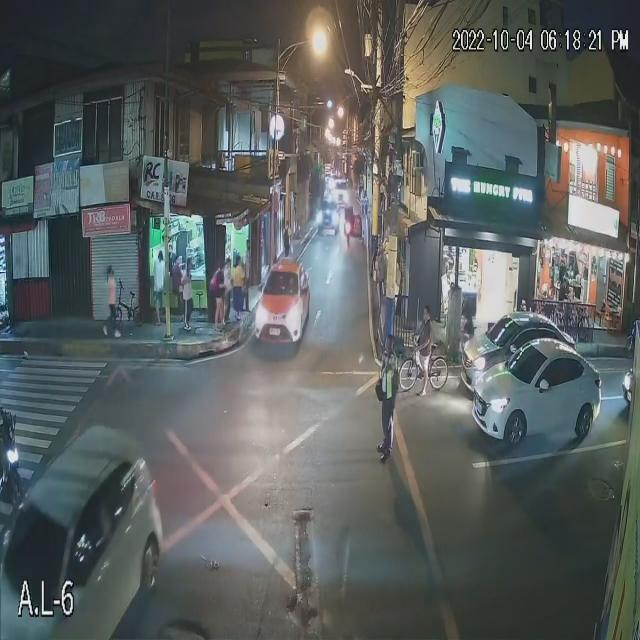motorcycle: (0, 414, 31, 501)
